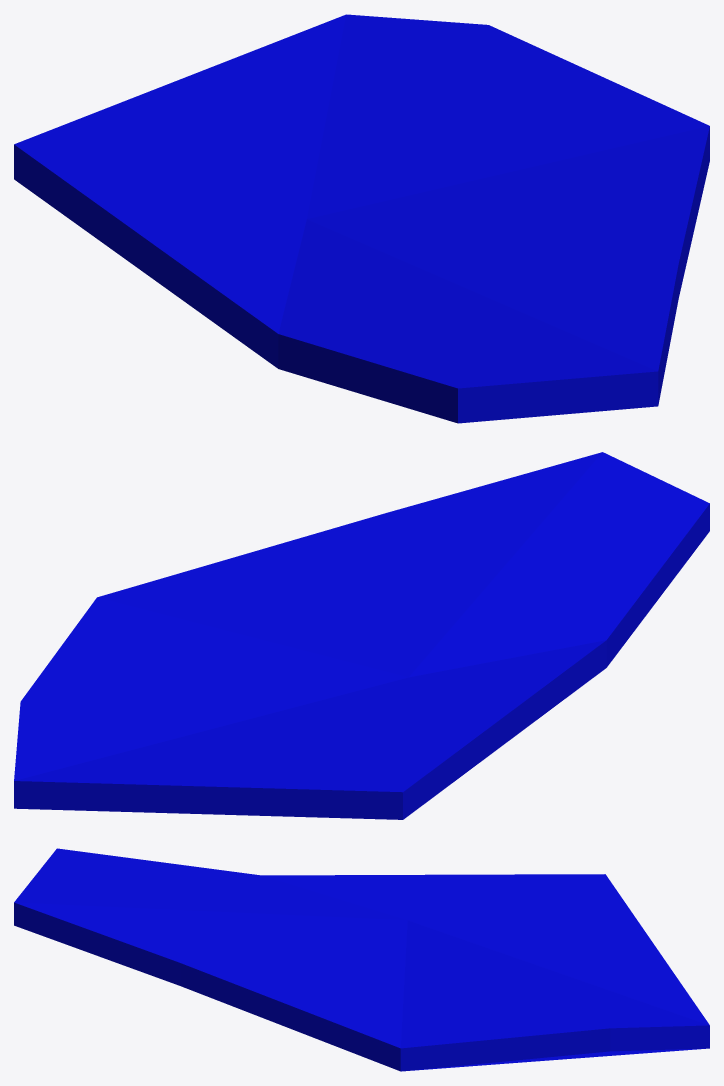
File: komono27.fbx
3 renders of one model, top to bottom at view 1: azimuth 30°, elevation 25°; view 2: azimuth 150°, elevation 25°; view 3: azimuth 270°, elevation 25°, orthographic. The views are drawn at different scales.
Visible parts, largest first — view 1: Cube.004; view 2: Cube.004; view 3: Cube.004.
Boxes of the visible parts, left/top/right/bottom form: Cube.004: left=14, top=14, right=709, bottom=423; Cube.004: left=14, top=452, right=709, bottom=819; Cube.004: left=14, top=848, right=709, bottom=1071.
Size of the model in its own units: 279 by 57.22 by 470.
